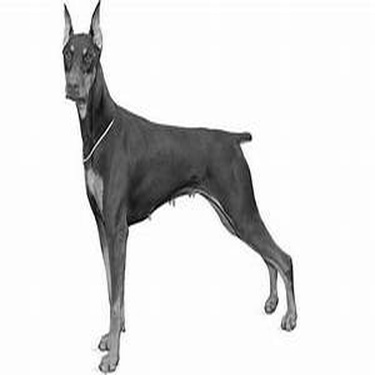dog: (44, 1, 306, 374)
